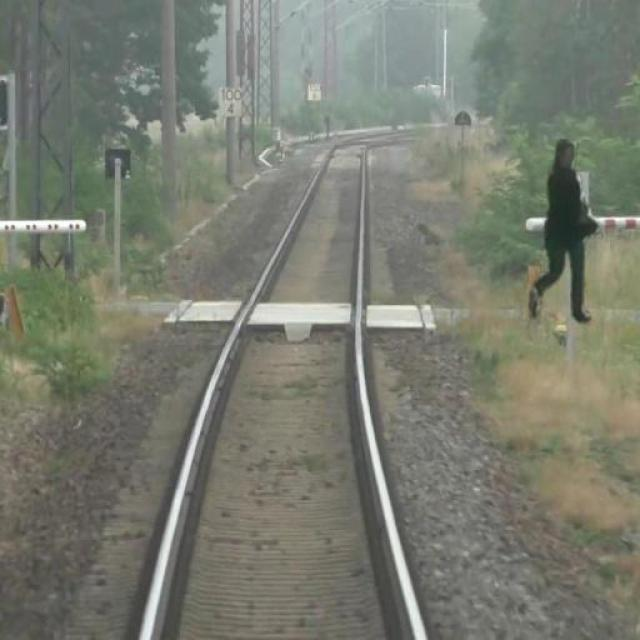people: (525, 135, 600, 331)
